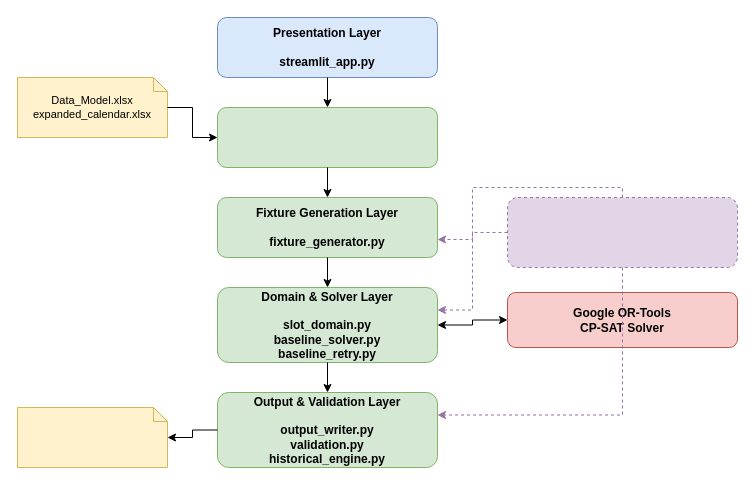
The diagram is 755 pixels wide and 485 high, and some of its shapes have lost their labels. Here are the shapes that lost their labels. From the top down, the centre of each, then its label:
At (327,137): "Data Access Layer data_loader.py".
At (622,232): "Shared Support Modules constants.py · tiers.py venue_rules.py · final_round.py".
At (92,437): "output/*.csv output/phases/*.csv, *.json".
